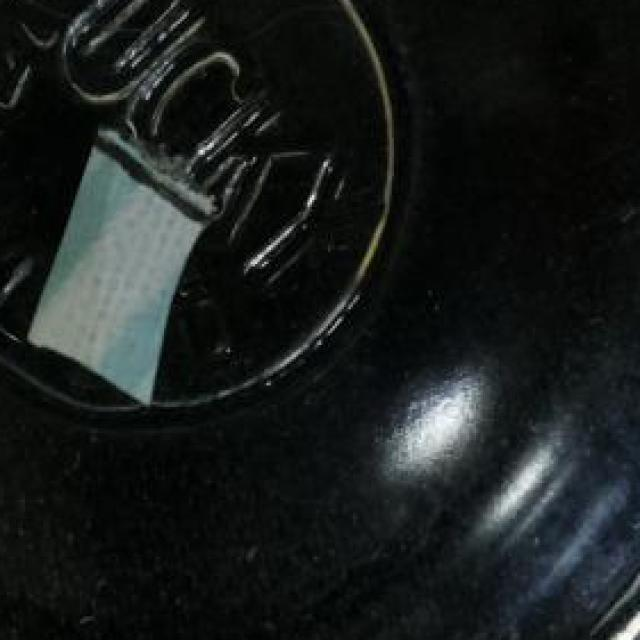Microplastic: (9, 107, 237, 412)
